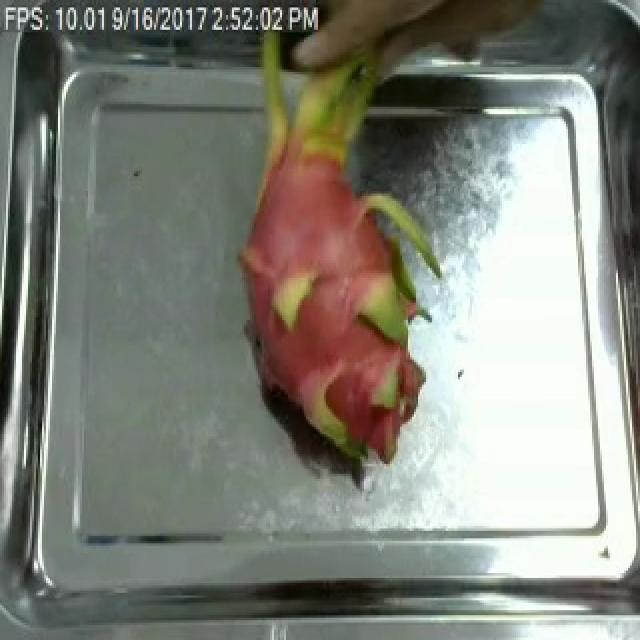fruit: (222, 15, 462, 449)
